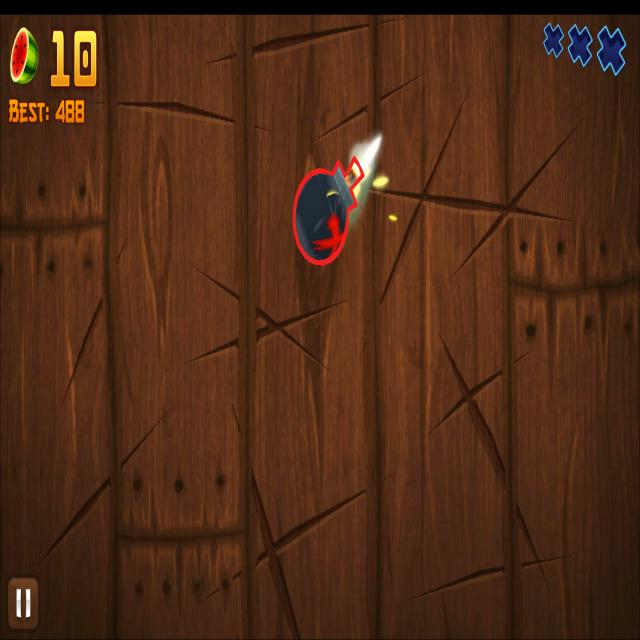bomb: (292, 153, 366, 270)
